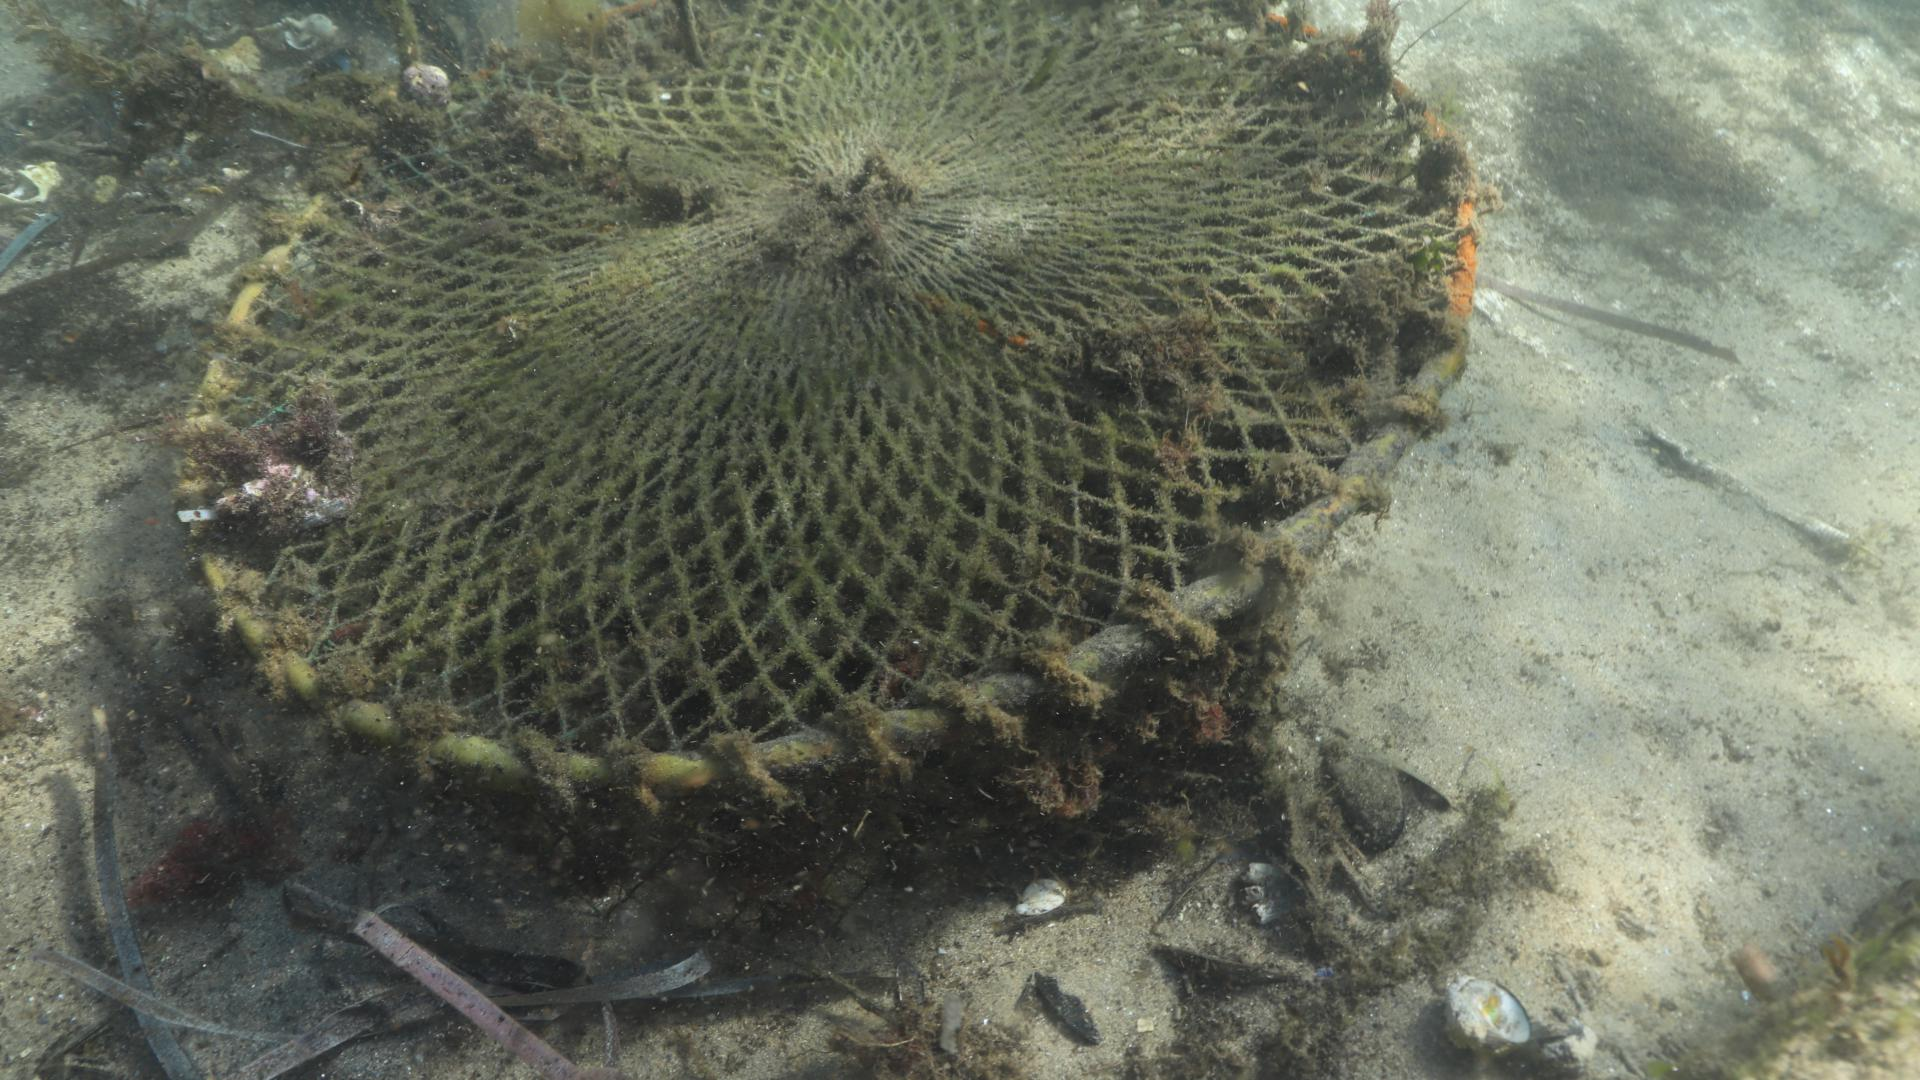circular fish trap: (178, 7, 1474, 920)
